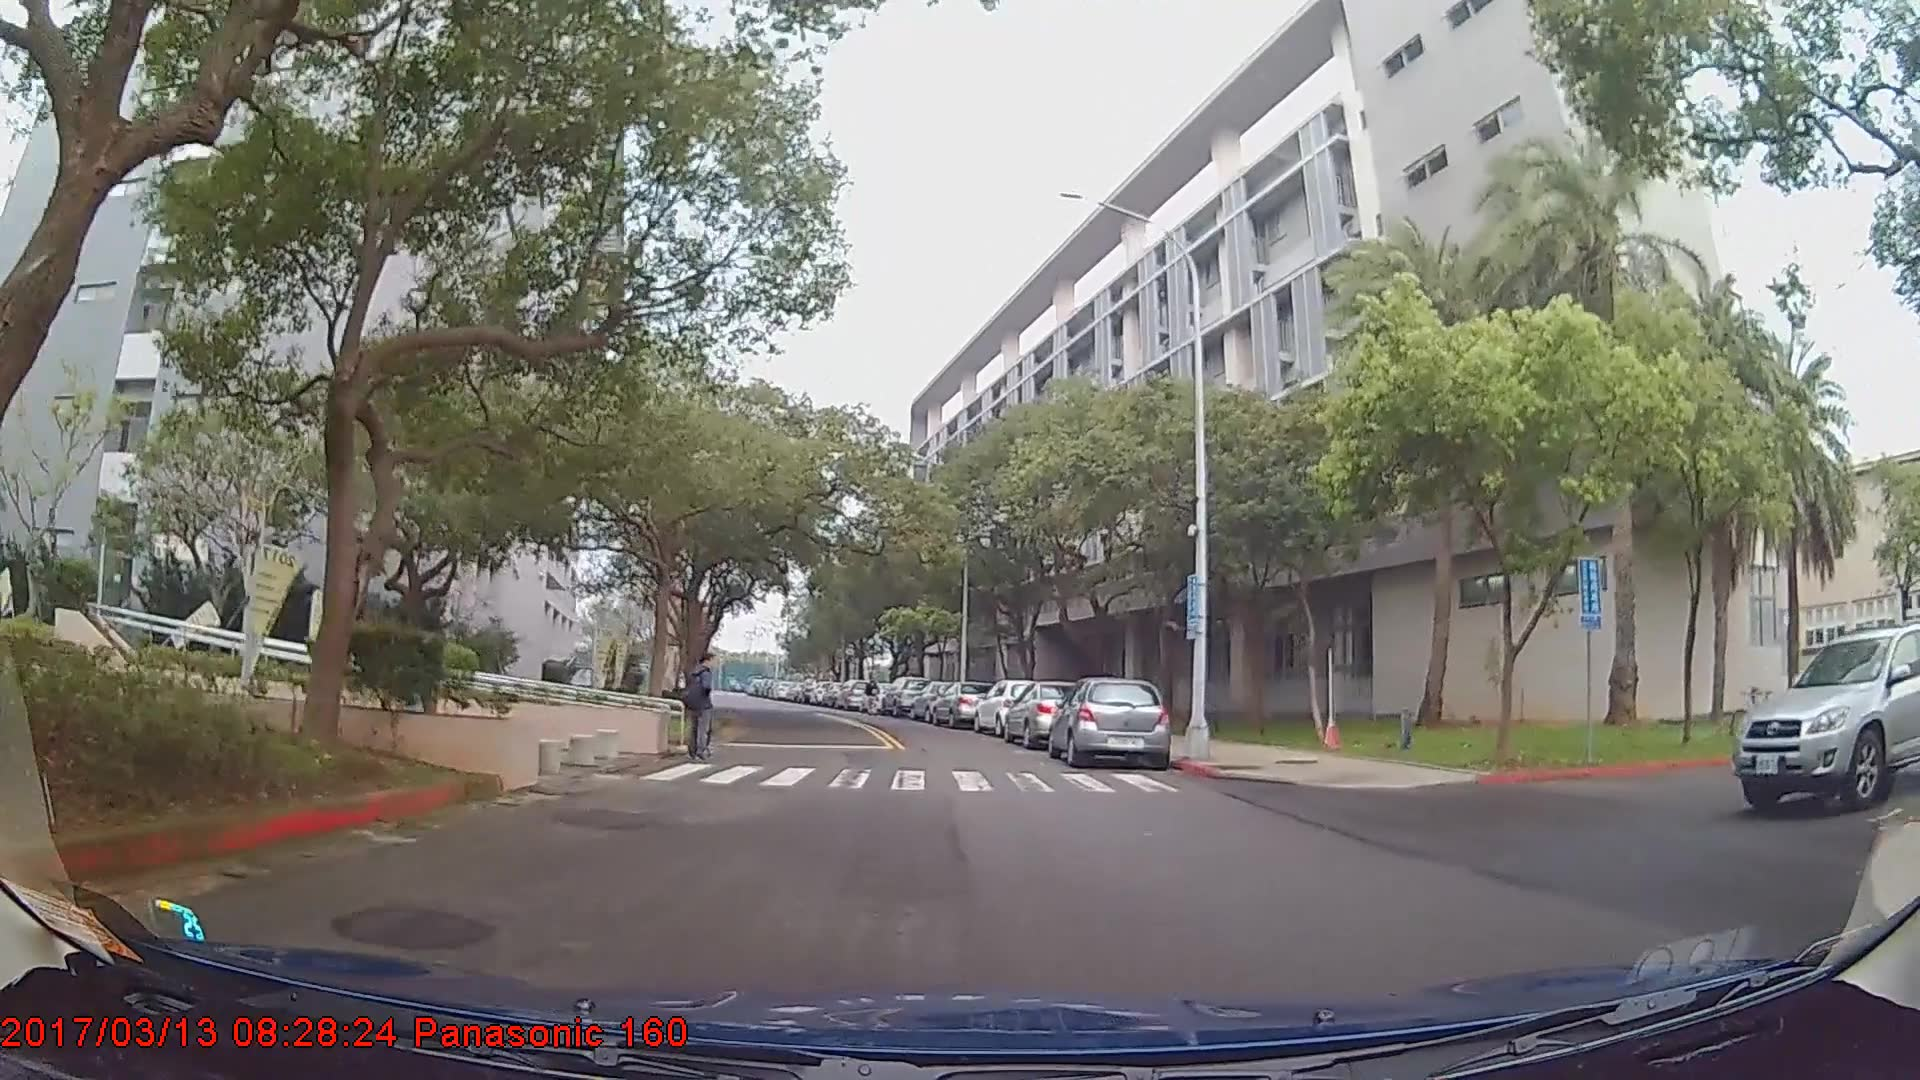pedestrian: (685, 658, 726, 773), (863, 675, 883, 718)
vehicle: (1730, 627, 1920, 814), (1046, 676, 1169, 768), (1002, 682, 1096, 748), (973, 679, 1054, 737), (931, 680, 996, 729), (879, 674, 931, 717)
